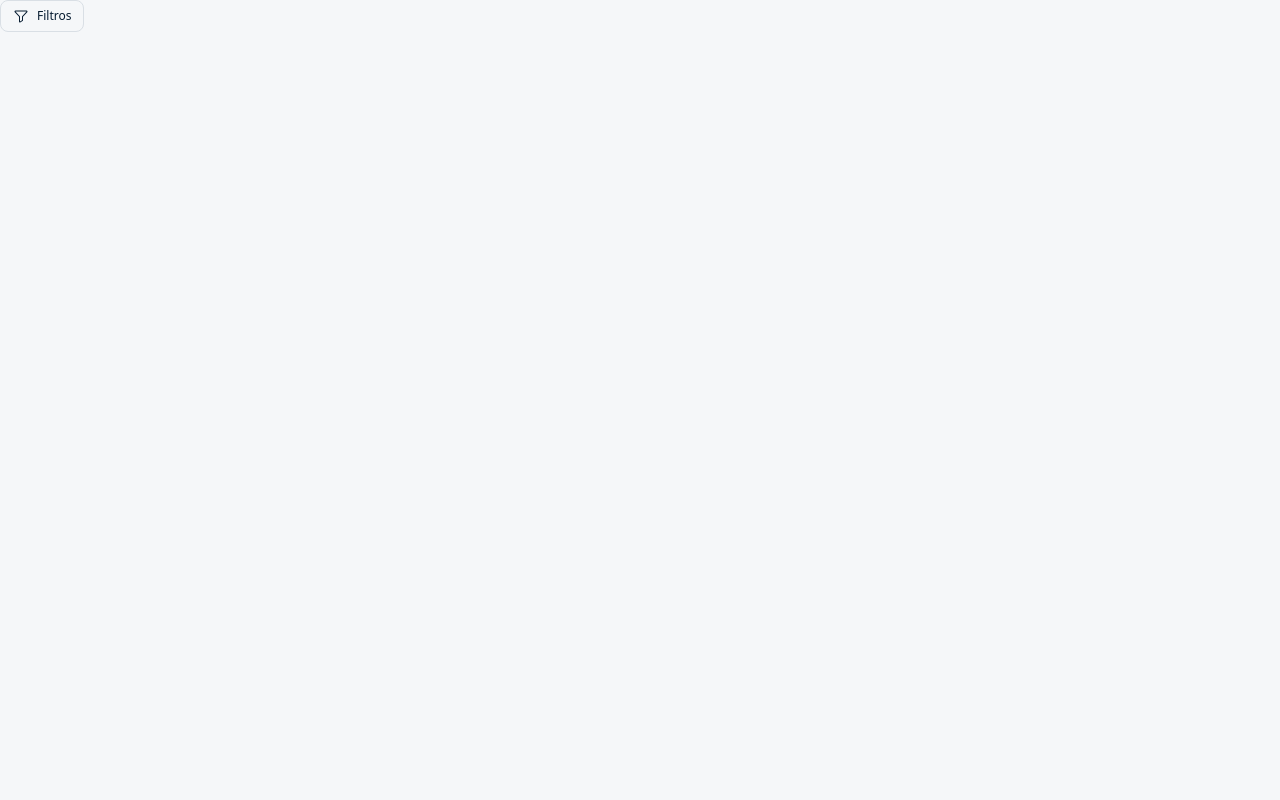
Test case: FiltrosMenu › sem filtro ativo, o botão não mostra número nem 'Limpar'
Click the button "Filtros". click: (42, 16)
box: 0,0 -> 84,32
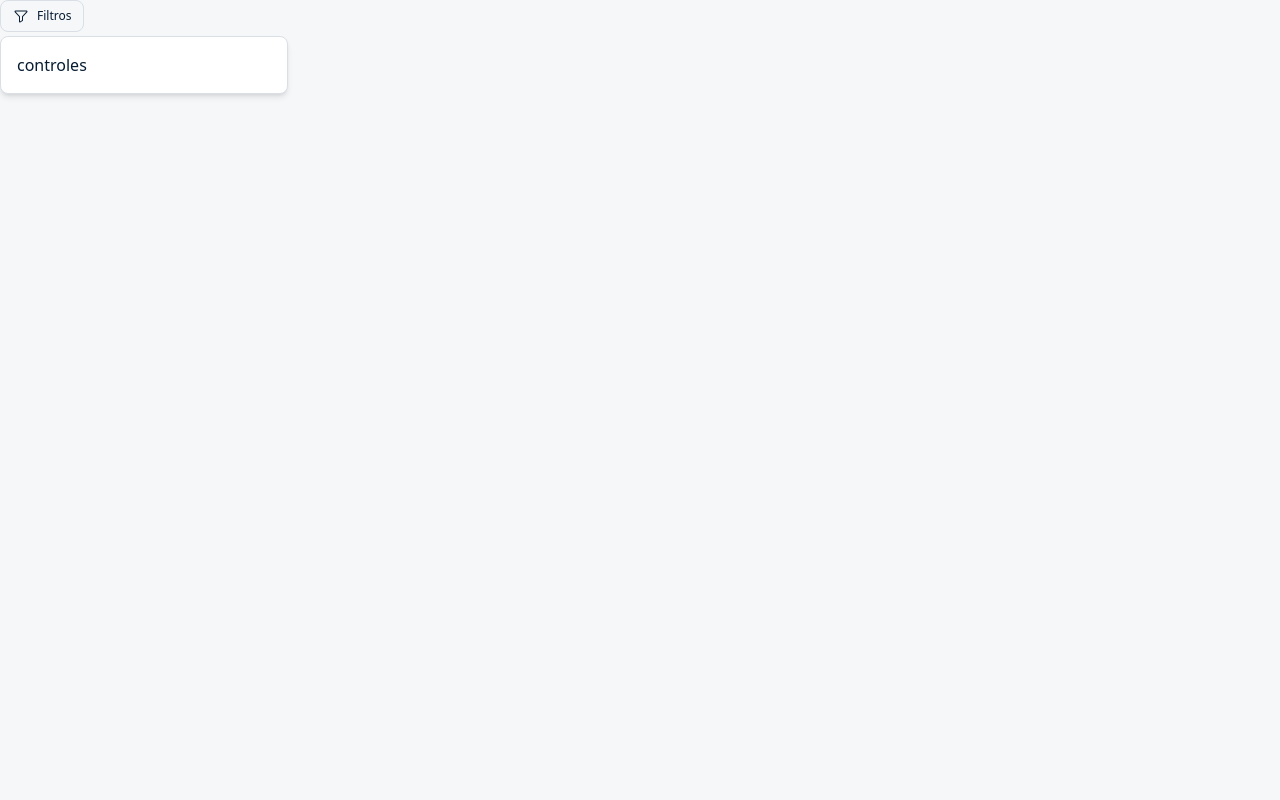
Expected: the text "controles" is shown, 17,54 -> 87,76
